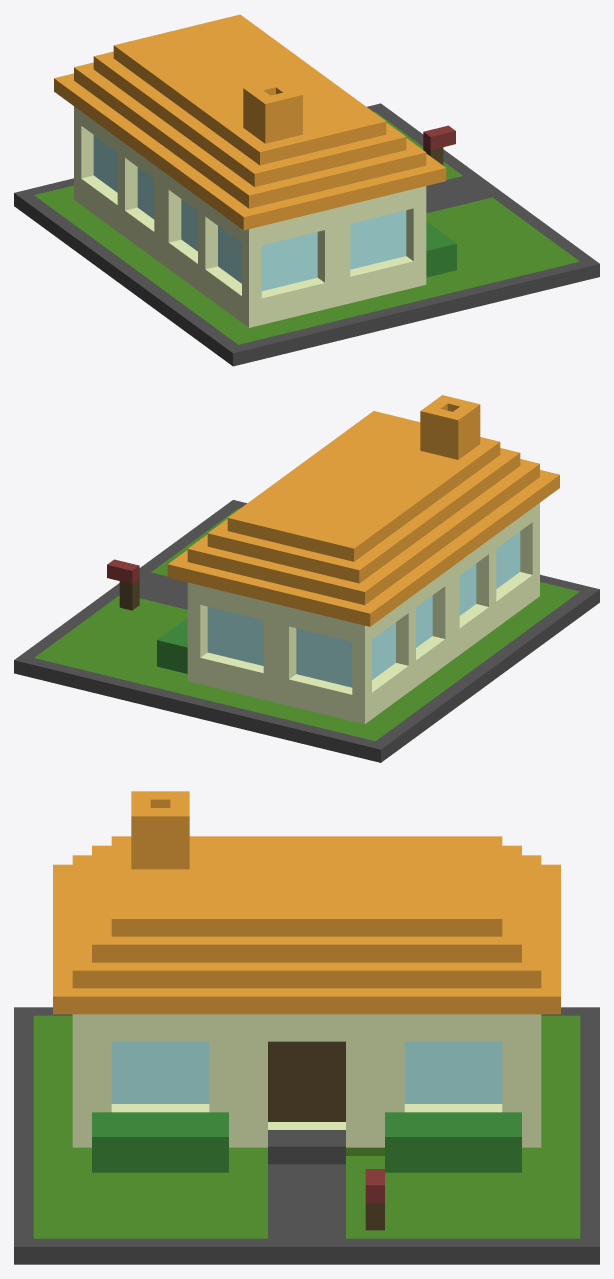
File: house1.obj
The picture shows the model from 3 angles, top to bottom: view 1: azimuth 30°, elevation 25°; view 2: azimuth 150°, elevation 25°; view 3: azimuth 270°, elevation 25°; orthographic projection. The views are drawn at different scales.
Bounding box in the file's own units: 29 × 16 × 30.
